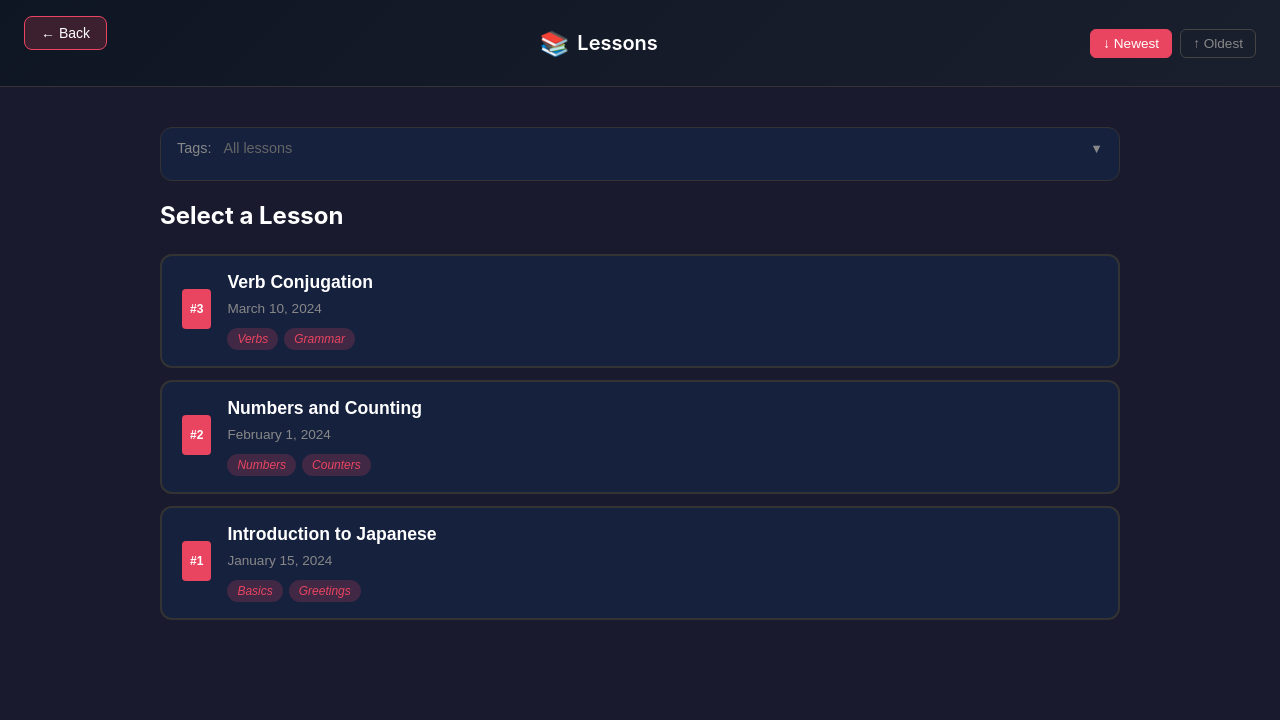
Test case: LessonList › Tag Filtering › should show filtered count in accordion
What coordinates should you click on to do the following:
click the text "Tags:"
I would click on:
 (194, 148)
Its box is [177,140,211,156].
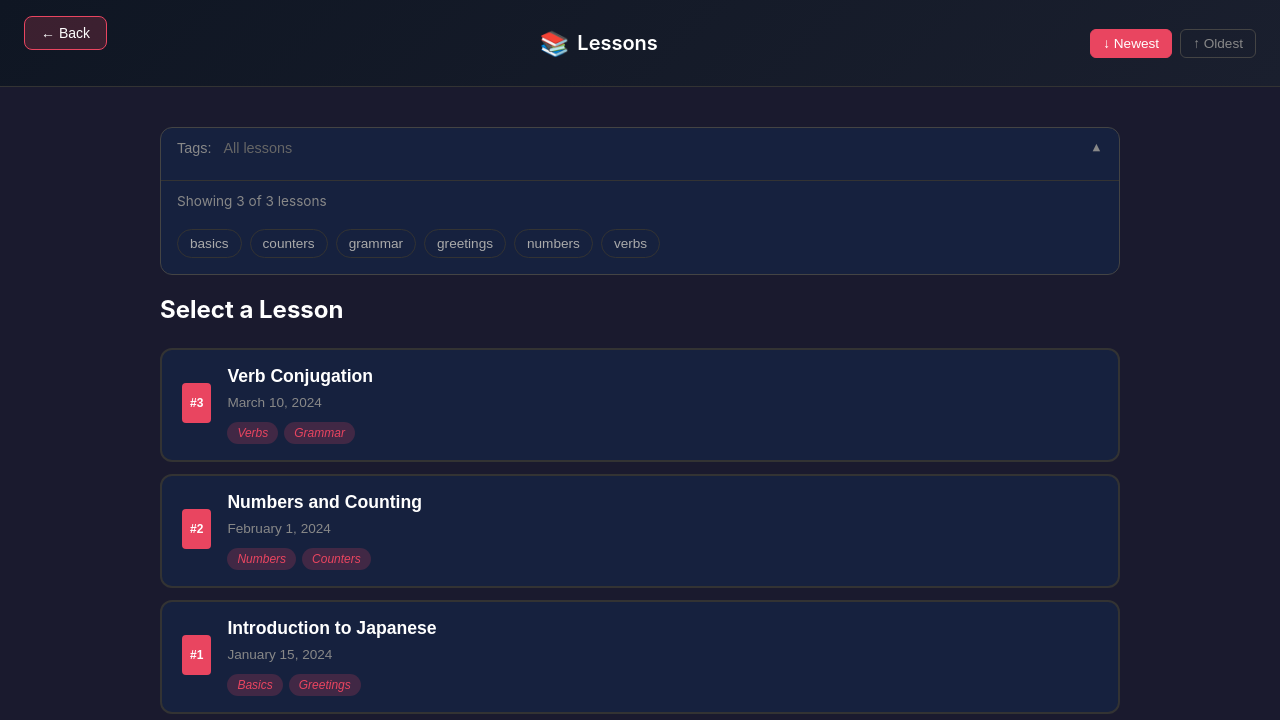
Expected: the text "Showing 3 of 3 lessons" is shown, [177,193,327,209]
